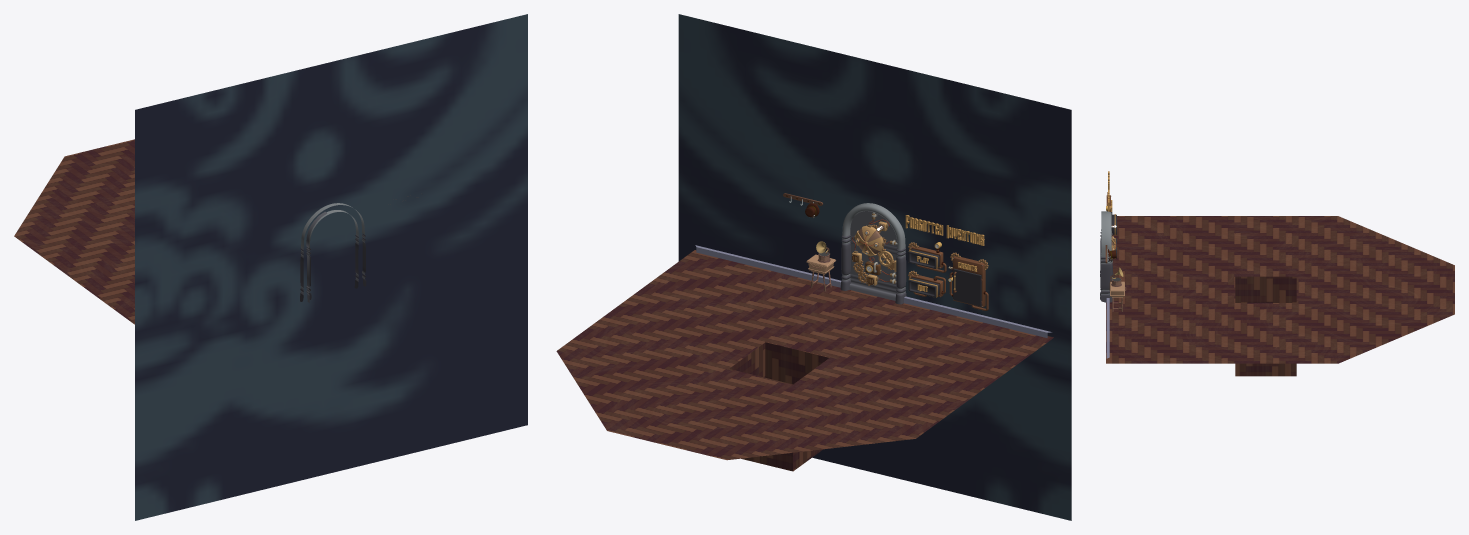
Rendered from MainMenu.fbx.
The picture shows the model from 3 angles, left to right: view 1: azimuth 30°, elevation 25°; view 2: azimuth 150°, elevation 25°; view 3: azimuth 270°, elevation 25°; orthographic projection. The views are drawn at different scales.
Parts seen in each view (by area): view 1: Plane.001, Plane, Door_Frame; view 2: Plane.001, Plane, Door, Door_Frame, Credits_Panel, Title, Credits, Table; view 3: Plane, Door_Frame, Table.
Part boxes in pixels (<box>): Plane.001: <box>135,14,527,520</box>; Plane: <box>14,139,134,324</box>; Door_Frame: <box>300,203,366,301</box>; Plane.001: <box>678,14,1071,520</box>; Plane: <box>556,245,1053,471</box>; Door: <box>849,211,897,300</box>; Door_Frame: <box>840,203,906,304</box>; Credits_Panel: <box>953,268,981,306</box>; Title: <box>905,215,984,245</box>; Credits: <box>948,255,988,310</box>; Table: <box>806,241,835,291</box>; Plane: <box>1106,216,1454,376</box>; Door_Frame: <box>1100,211,1113,302</box>; Table: <box>1109,267,1126,311</box>.
Bounding box in the file's own units: 1666 × 1666 × 1549.
